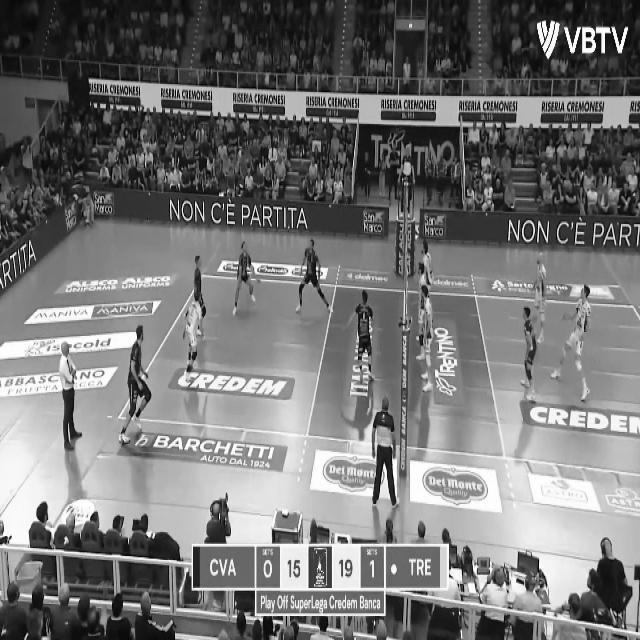volleyball court: (118, 271, 639, 472)
